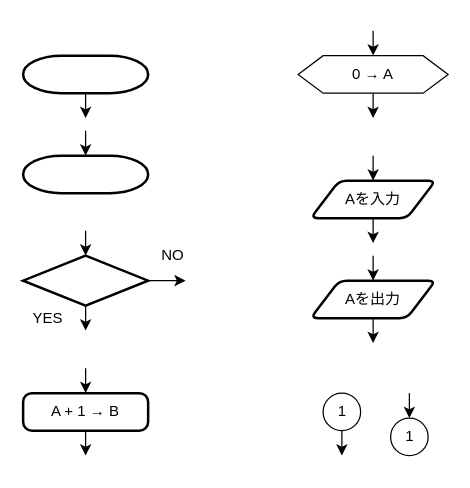
Some shapes in this 470 by 488 pixel diagram are drawn without their labels. Here are the shapes that lost their labels. From the top down, the box of each, then its label:
(21, 54, 149, 94): はじめ
(21, 154, 149, 194): おわり
(21, 254, 149, 306): A=10
